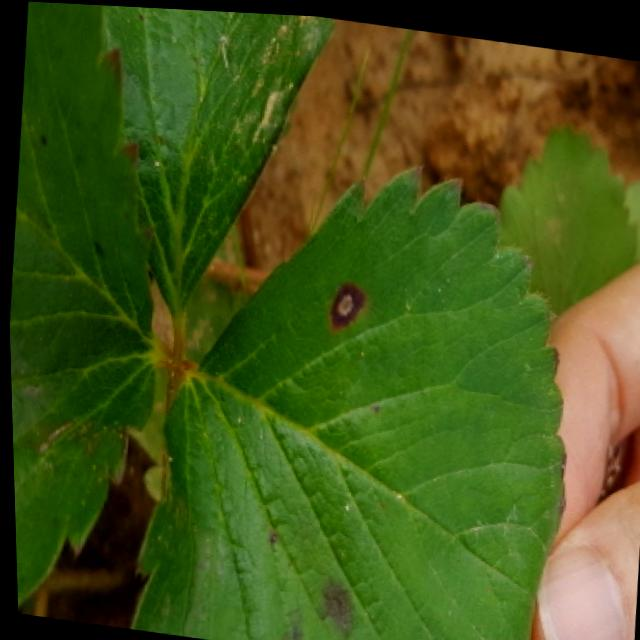Leaf Spot: (125, 158, 564, 640), (7, 1, 160, 607)
